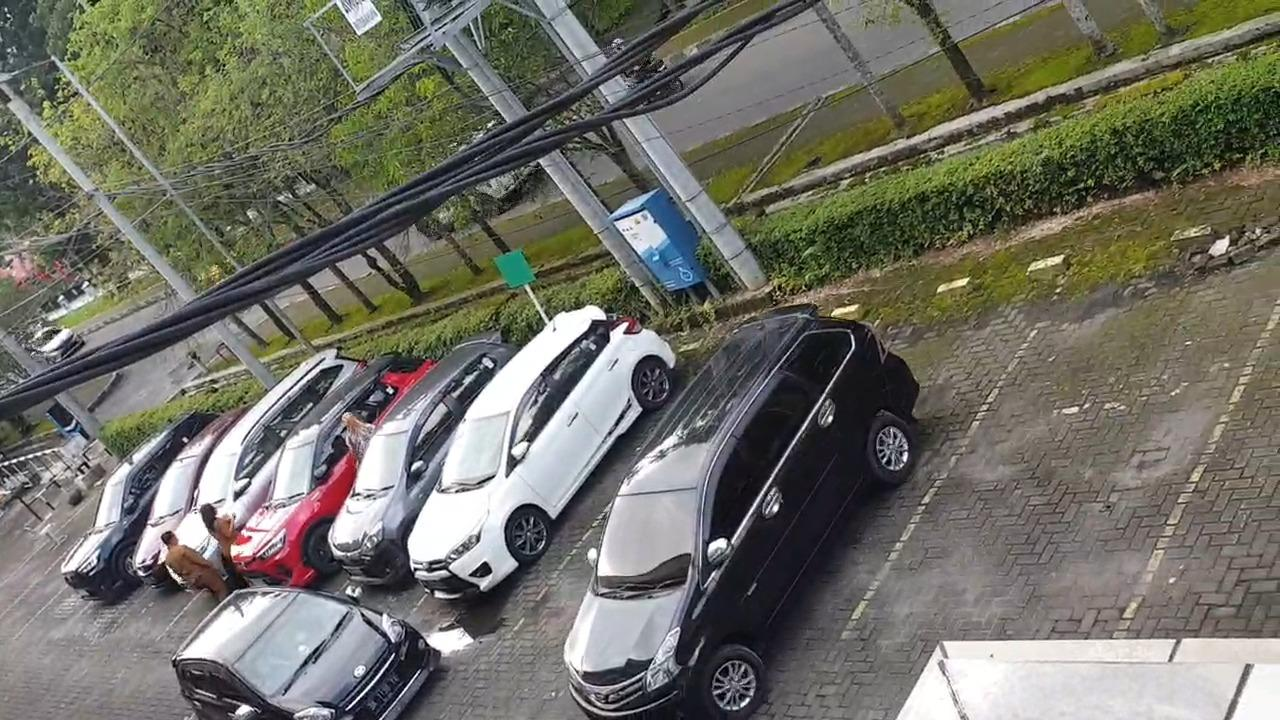empty: (946, 256, 1208, 637)
occupied: (717, 286, 943, 653), (401, 343, 555, 635)
